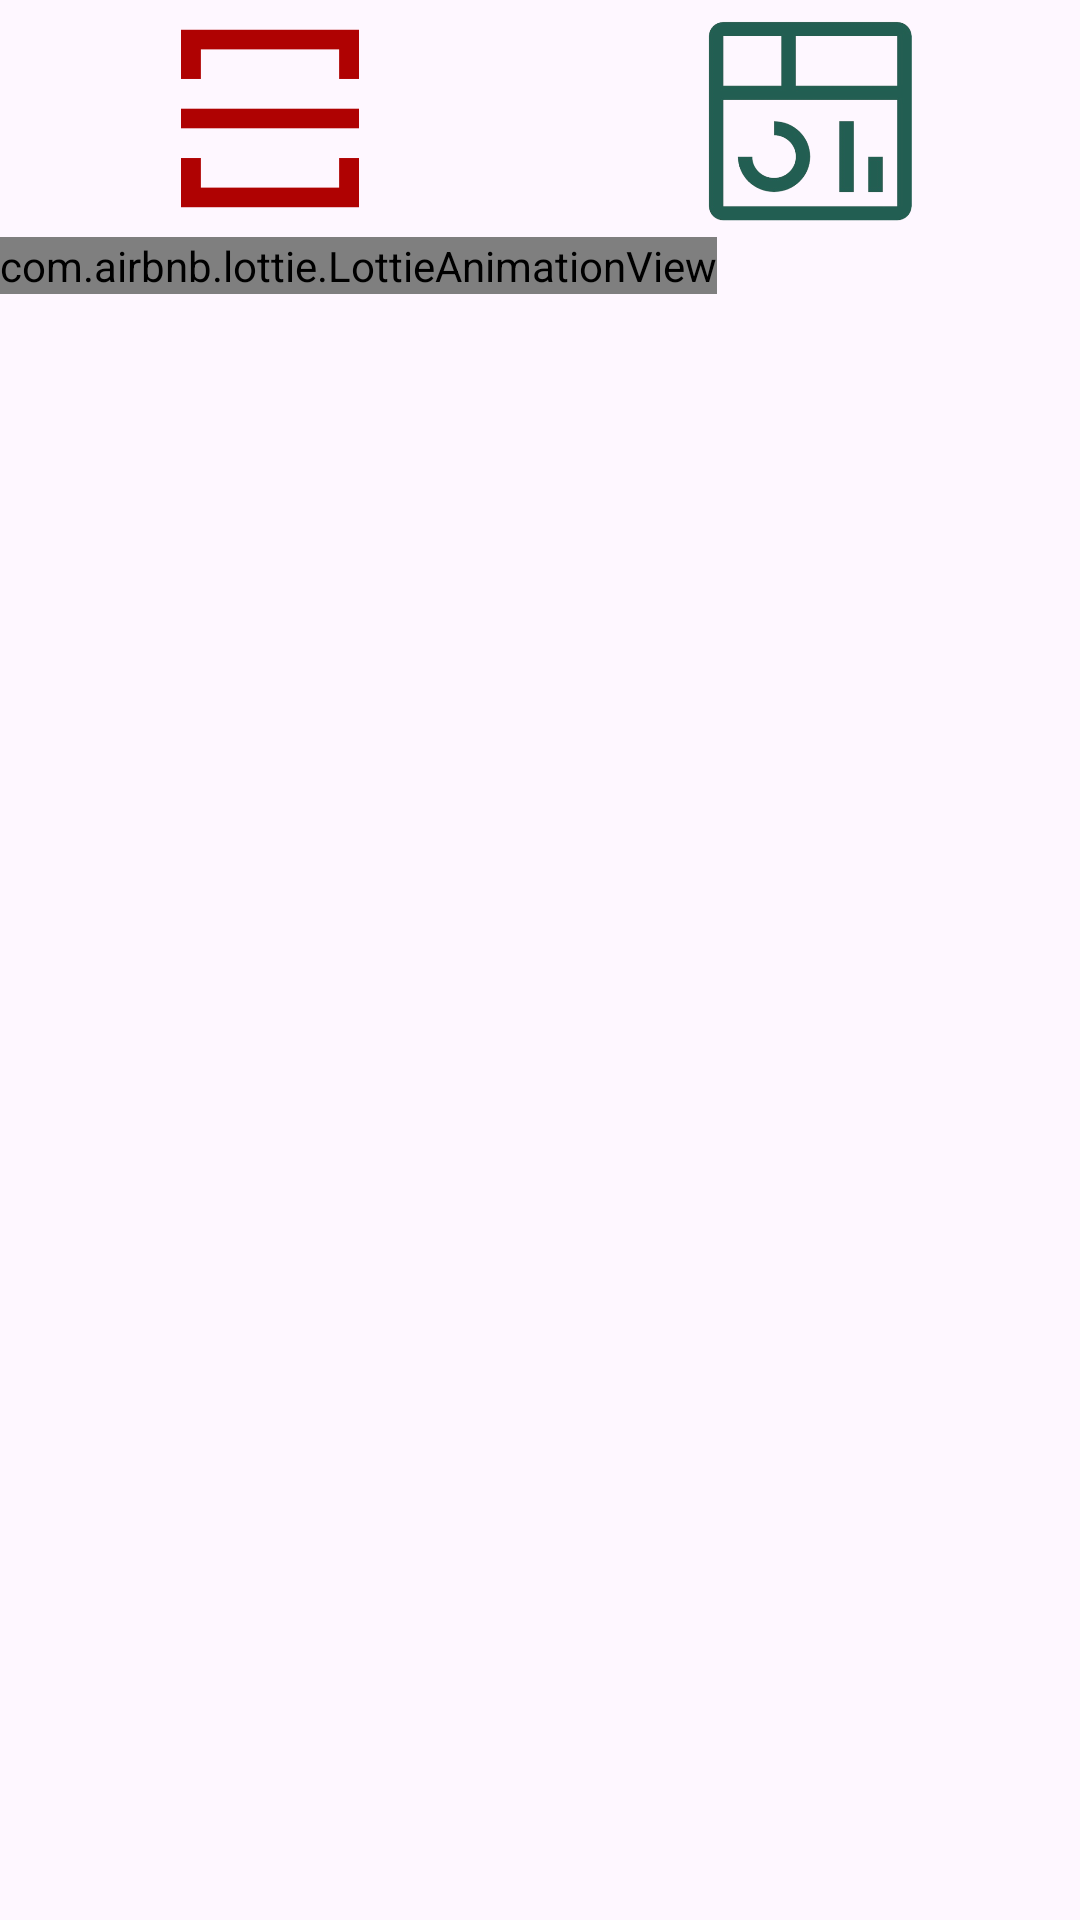

Point at icon controls on the screen. Image size 1080×1920, points as (x,y).
dashboard: (810,121)
scan: (270,118)
